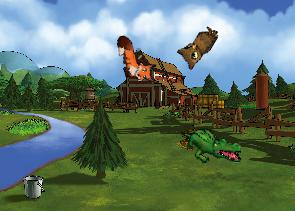crocodile: (181, 126, 242, 165)
fox: (114, 30, 159, 88)
owl: (172, 18, 220, 72)
